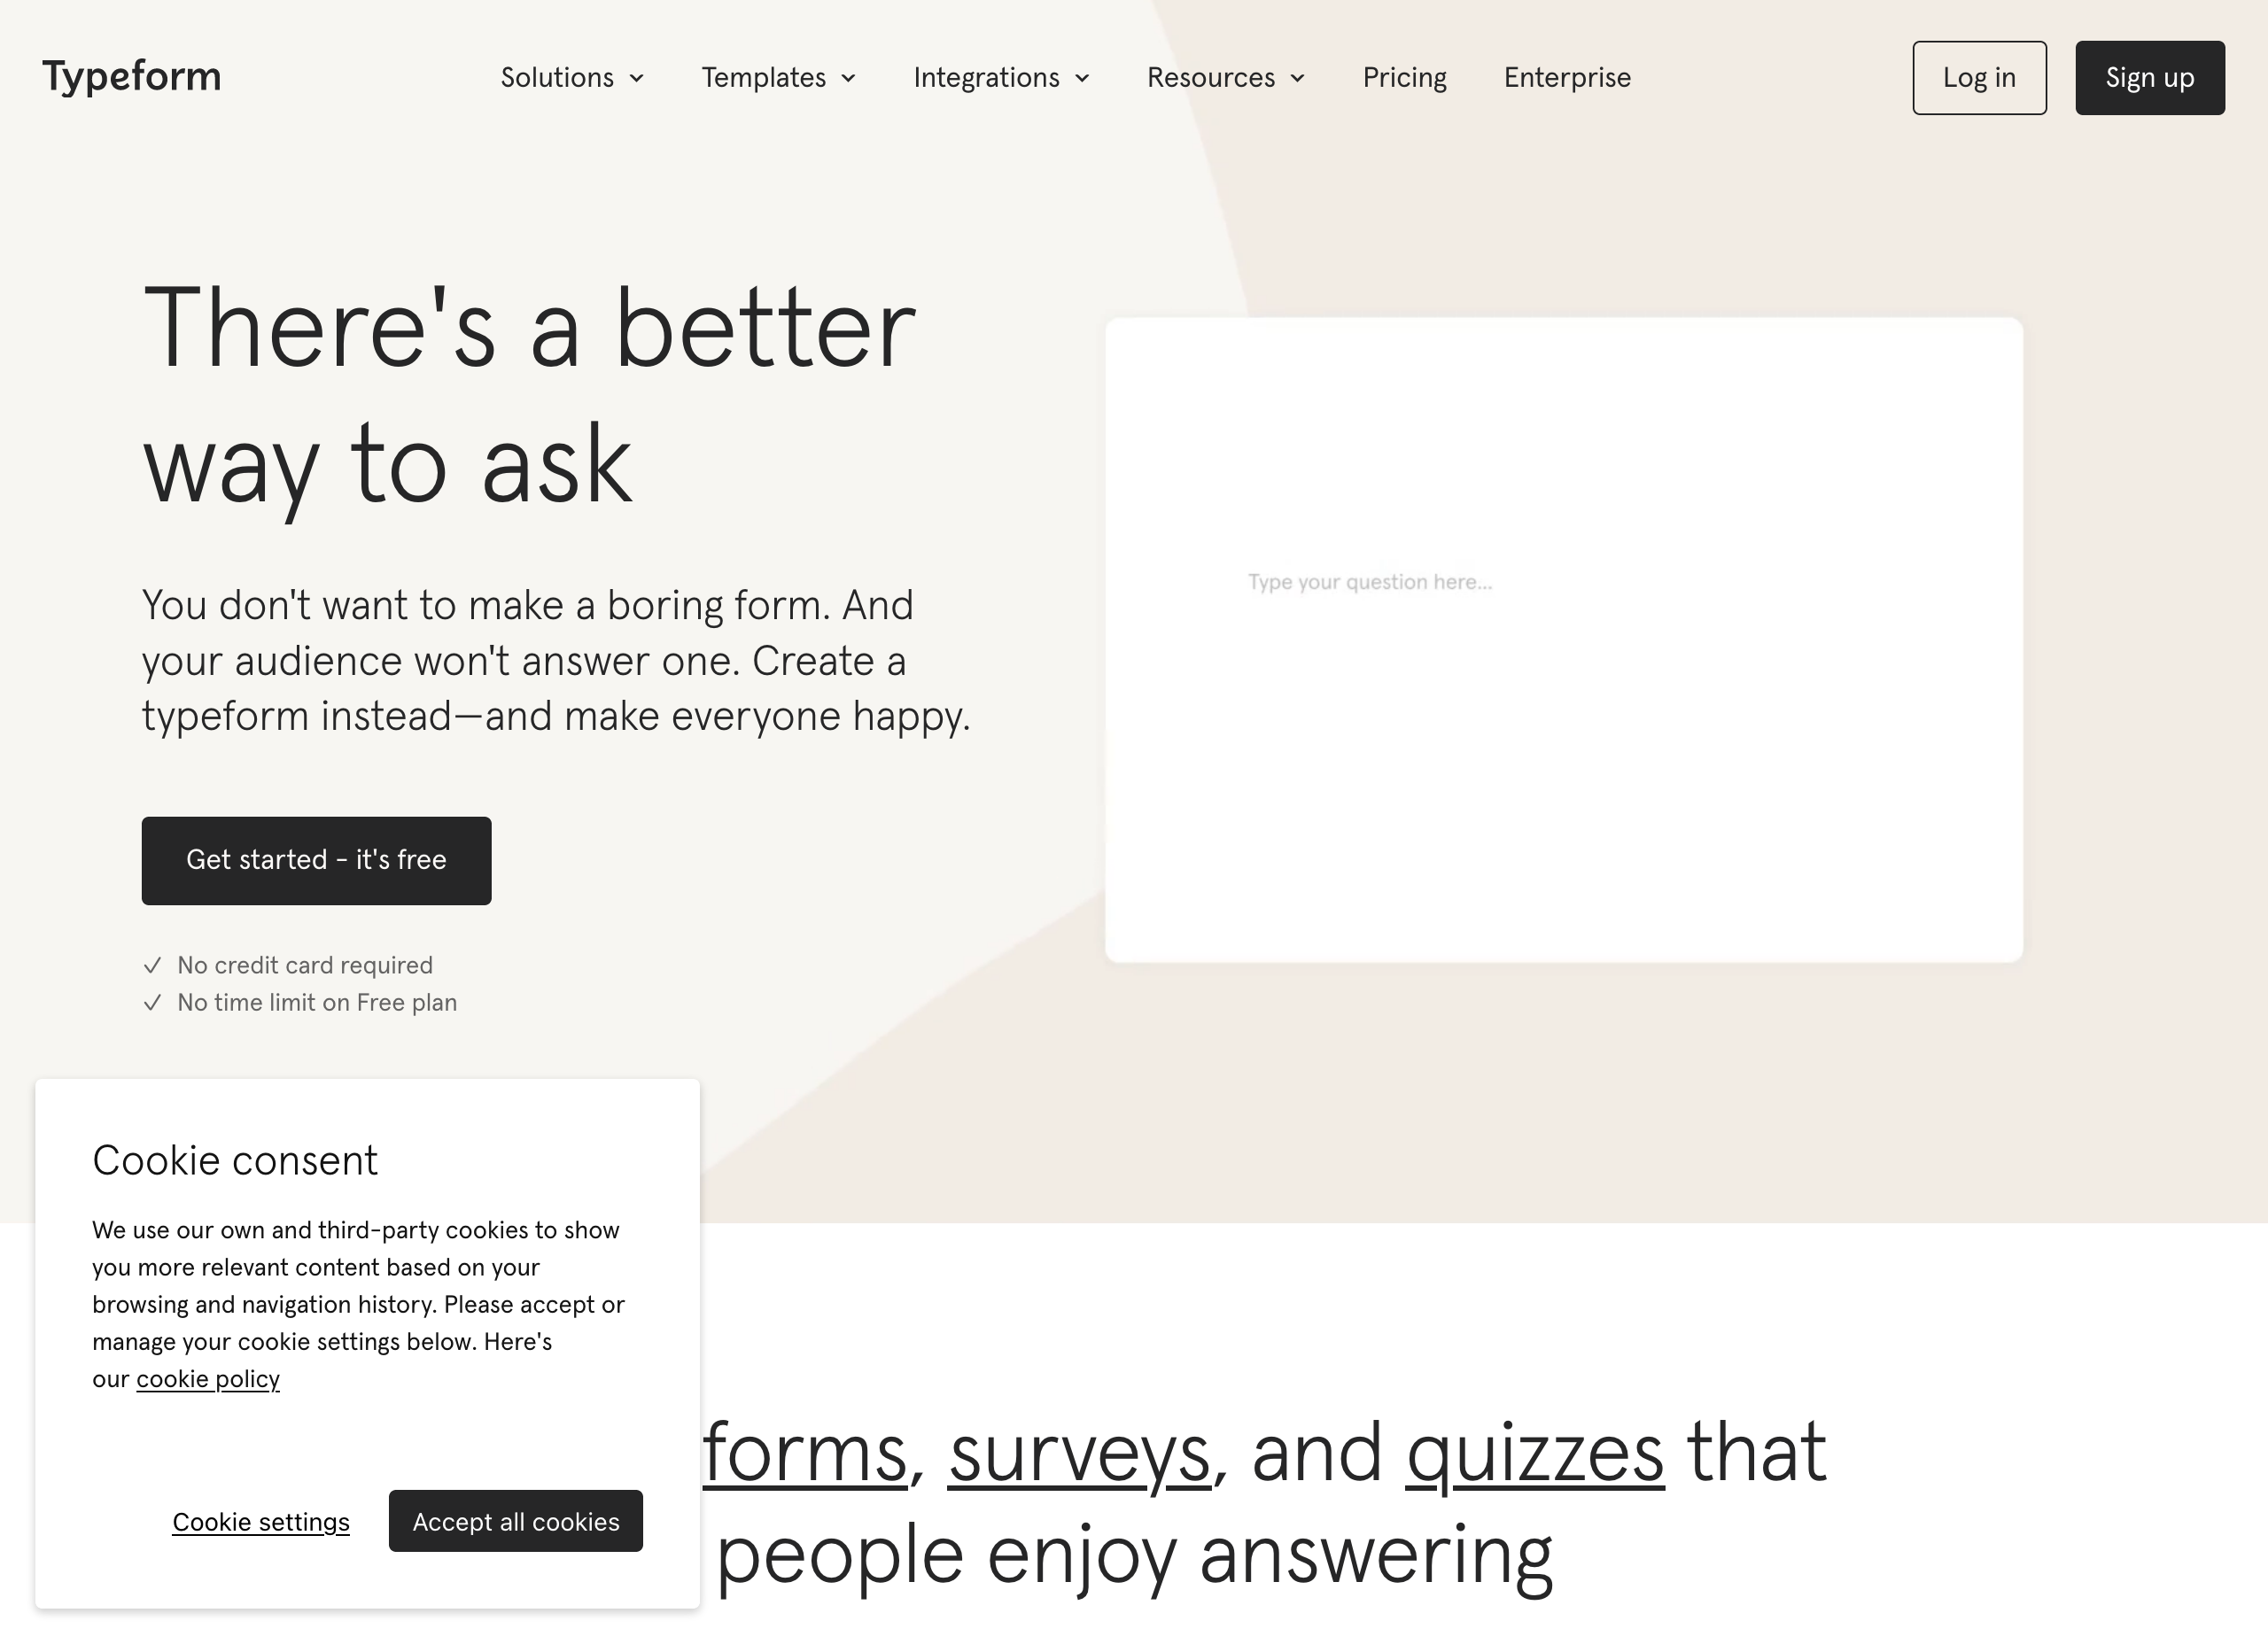Login: (1896, 23, 2060, 127)
